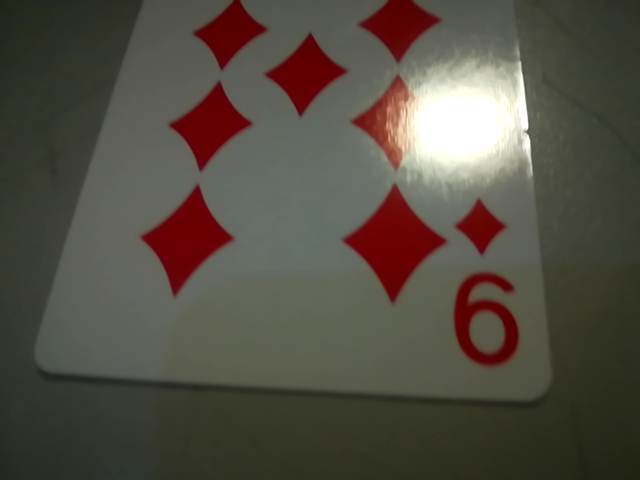fk 9: (436, 186, 547, 382)
